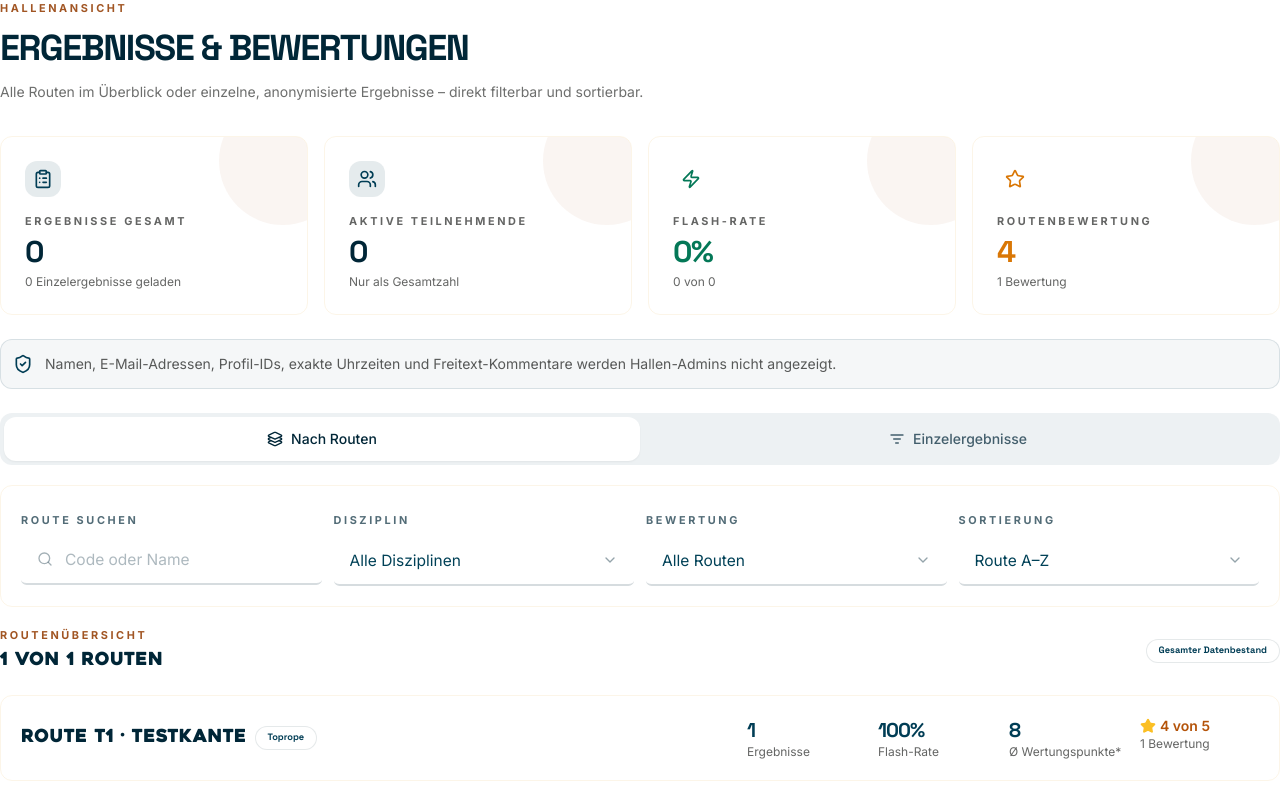
GymResults › shows a stable empty state for an assigned hall without results
This screenshot has width=1280, height=800.
Click the tab "Einzelergebnisse" at (958, 439), box [640,417,1276,461]
(page scrolled)
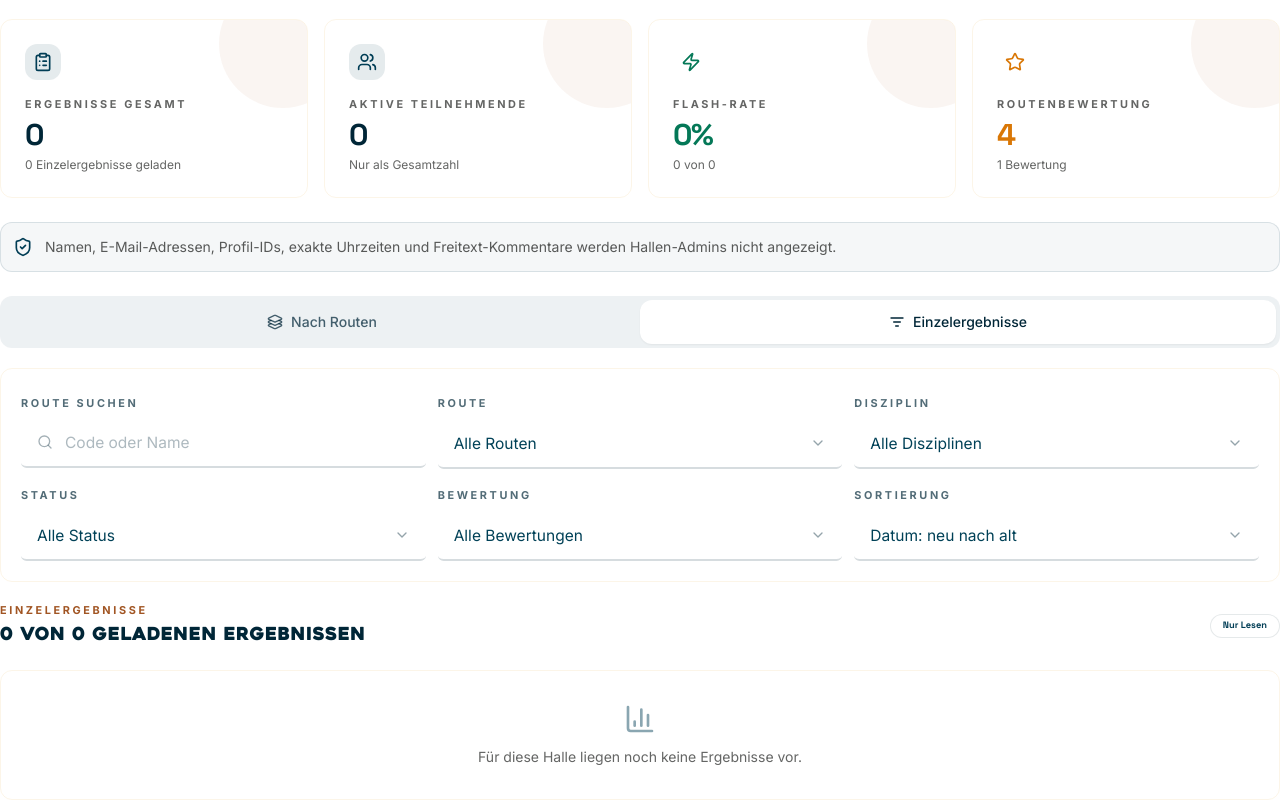
Result: the text "Für diese Halle liegen noch keine Ergebnisse vor." is shown at [478,748,802,766]
